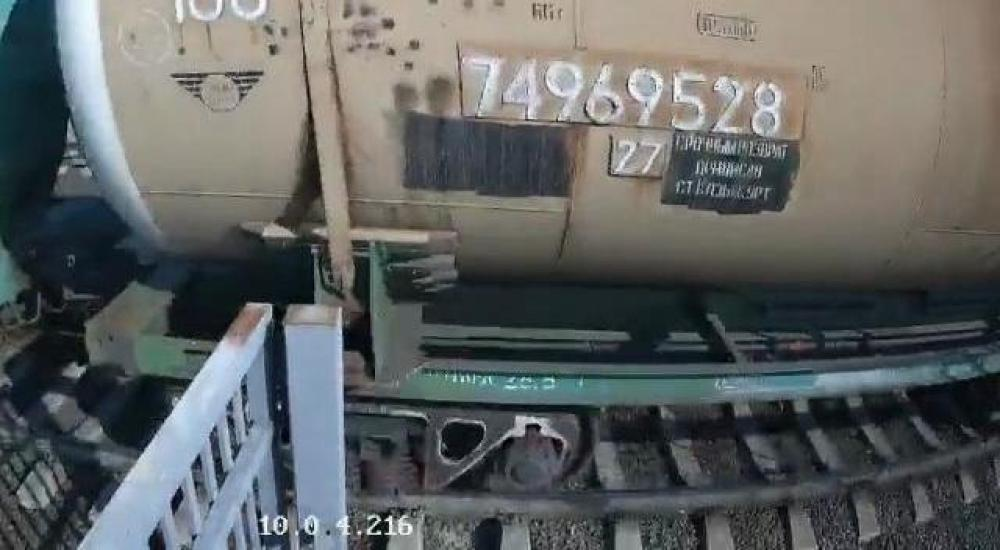Wagon-number: (461, 50, 782, 140)
